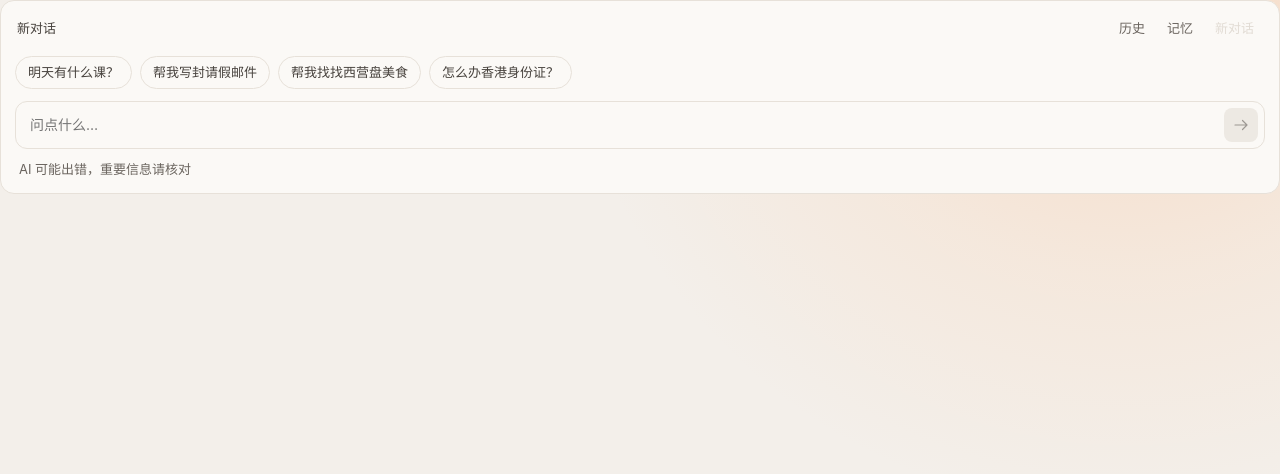
Test case: quick replies appear under the answer and send the chosen option
The width and height of the screenshot is (1280, 474).
Click the button "帮我找找西营盘美食": (350, 72) [278,56,421,89]
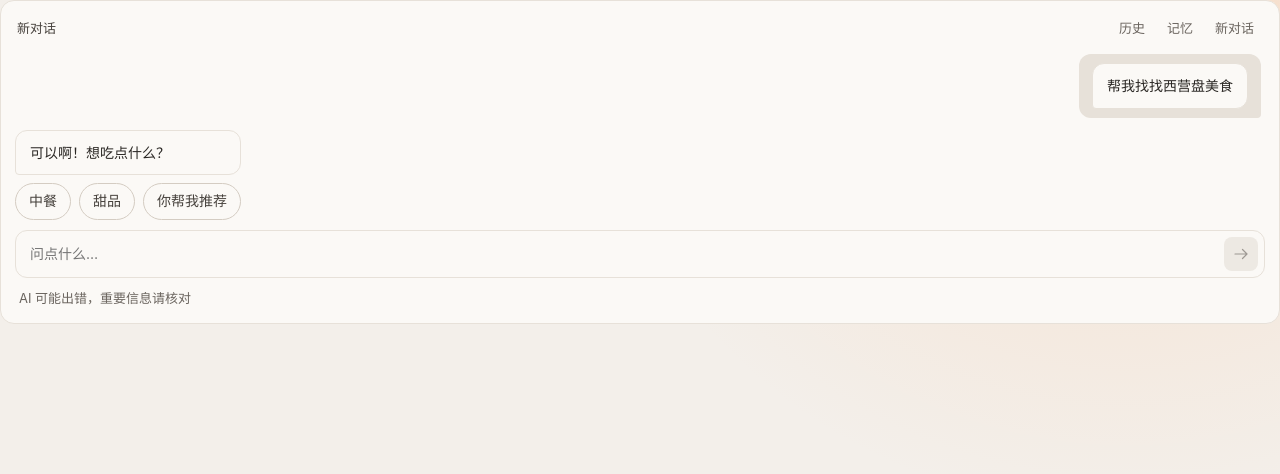
Click the button "你帮我推荐": (192, 202) [143,183,241,220]
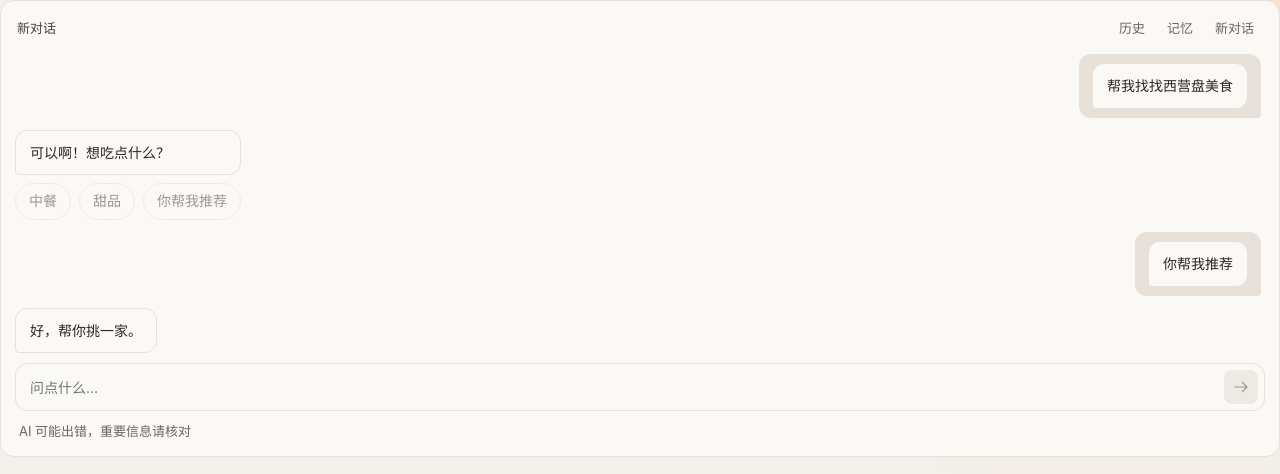
expect the button "你帮我推荐" is shown: met, box [143,183,241,220]
expect the button "中餐" is disabled: met, box [15,183,71,220]
